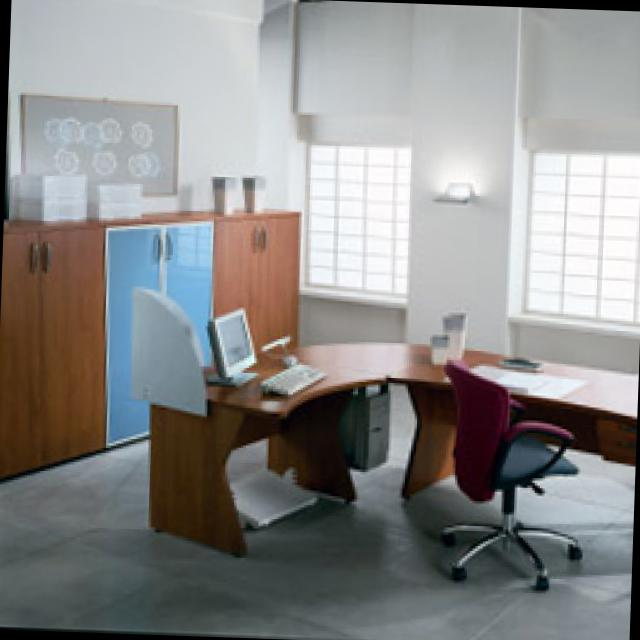2001: (518, 147, 640, 326), (301, 139, 409, 288)
box contants: (11, 169, 88, 218), (85, 179, 141, 217), (238, 167, 264, 210), (210, 171, 234, 211)
boxes: (426, 304, 466, 362)
cabinets: (0, 205, 299, 479)
chair -occluded-: (433, 355, 579, 588)
computer crop: (336, 384, 385, 469)
desk calendar: (143, 335, 633, 555)
desk occluded: (468, 358, 586, 398)
keyboard crop: (258, 357, 321, 391)
lamp crop: (429, 174, 472, 204)
monitor crop: (198, 305, 253, 382)
mouse pad: (276, 349, 299, 362)
painting crop: (19, 89, 175, 195)
phone charger: (496, 352, 541, 367)
